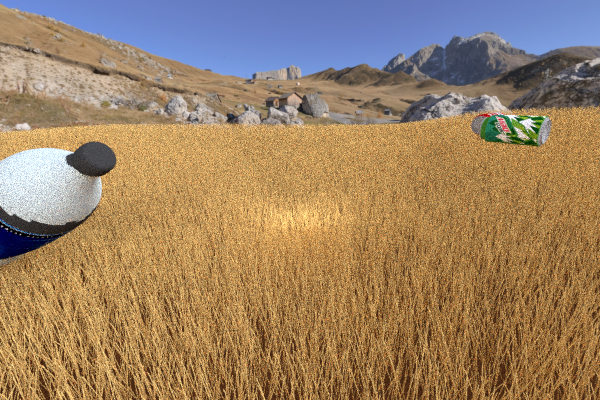Plastic Bottle: (0, 141, 116, 274), (479, 114, 551, 146), (470, 112, 507, 135)
